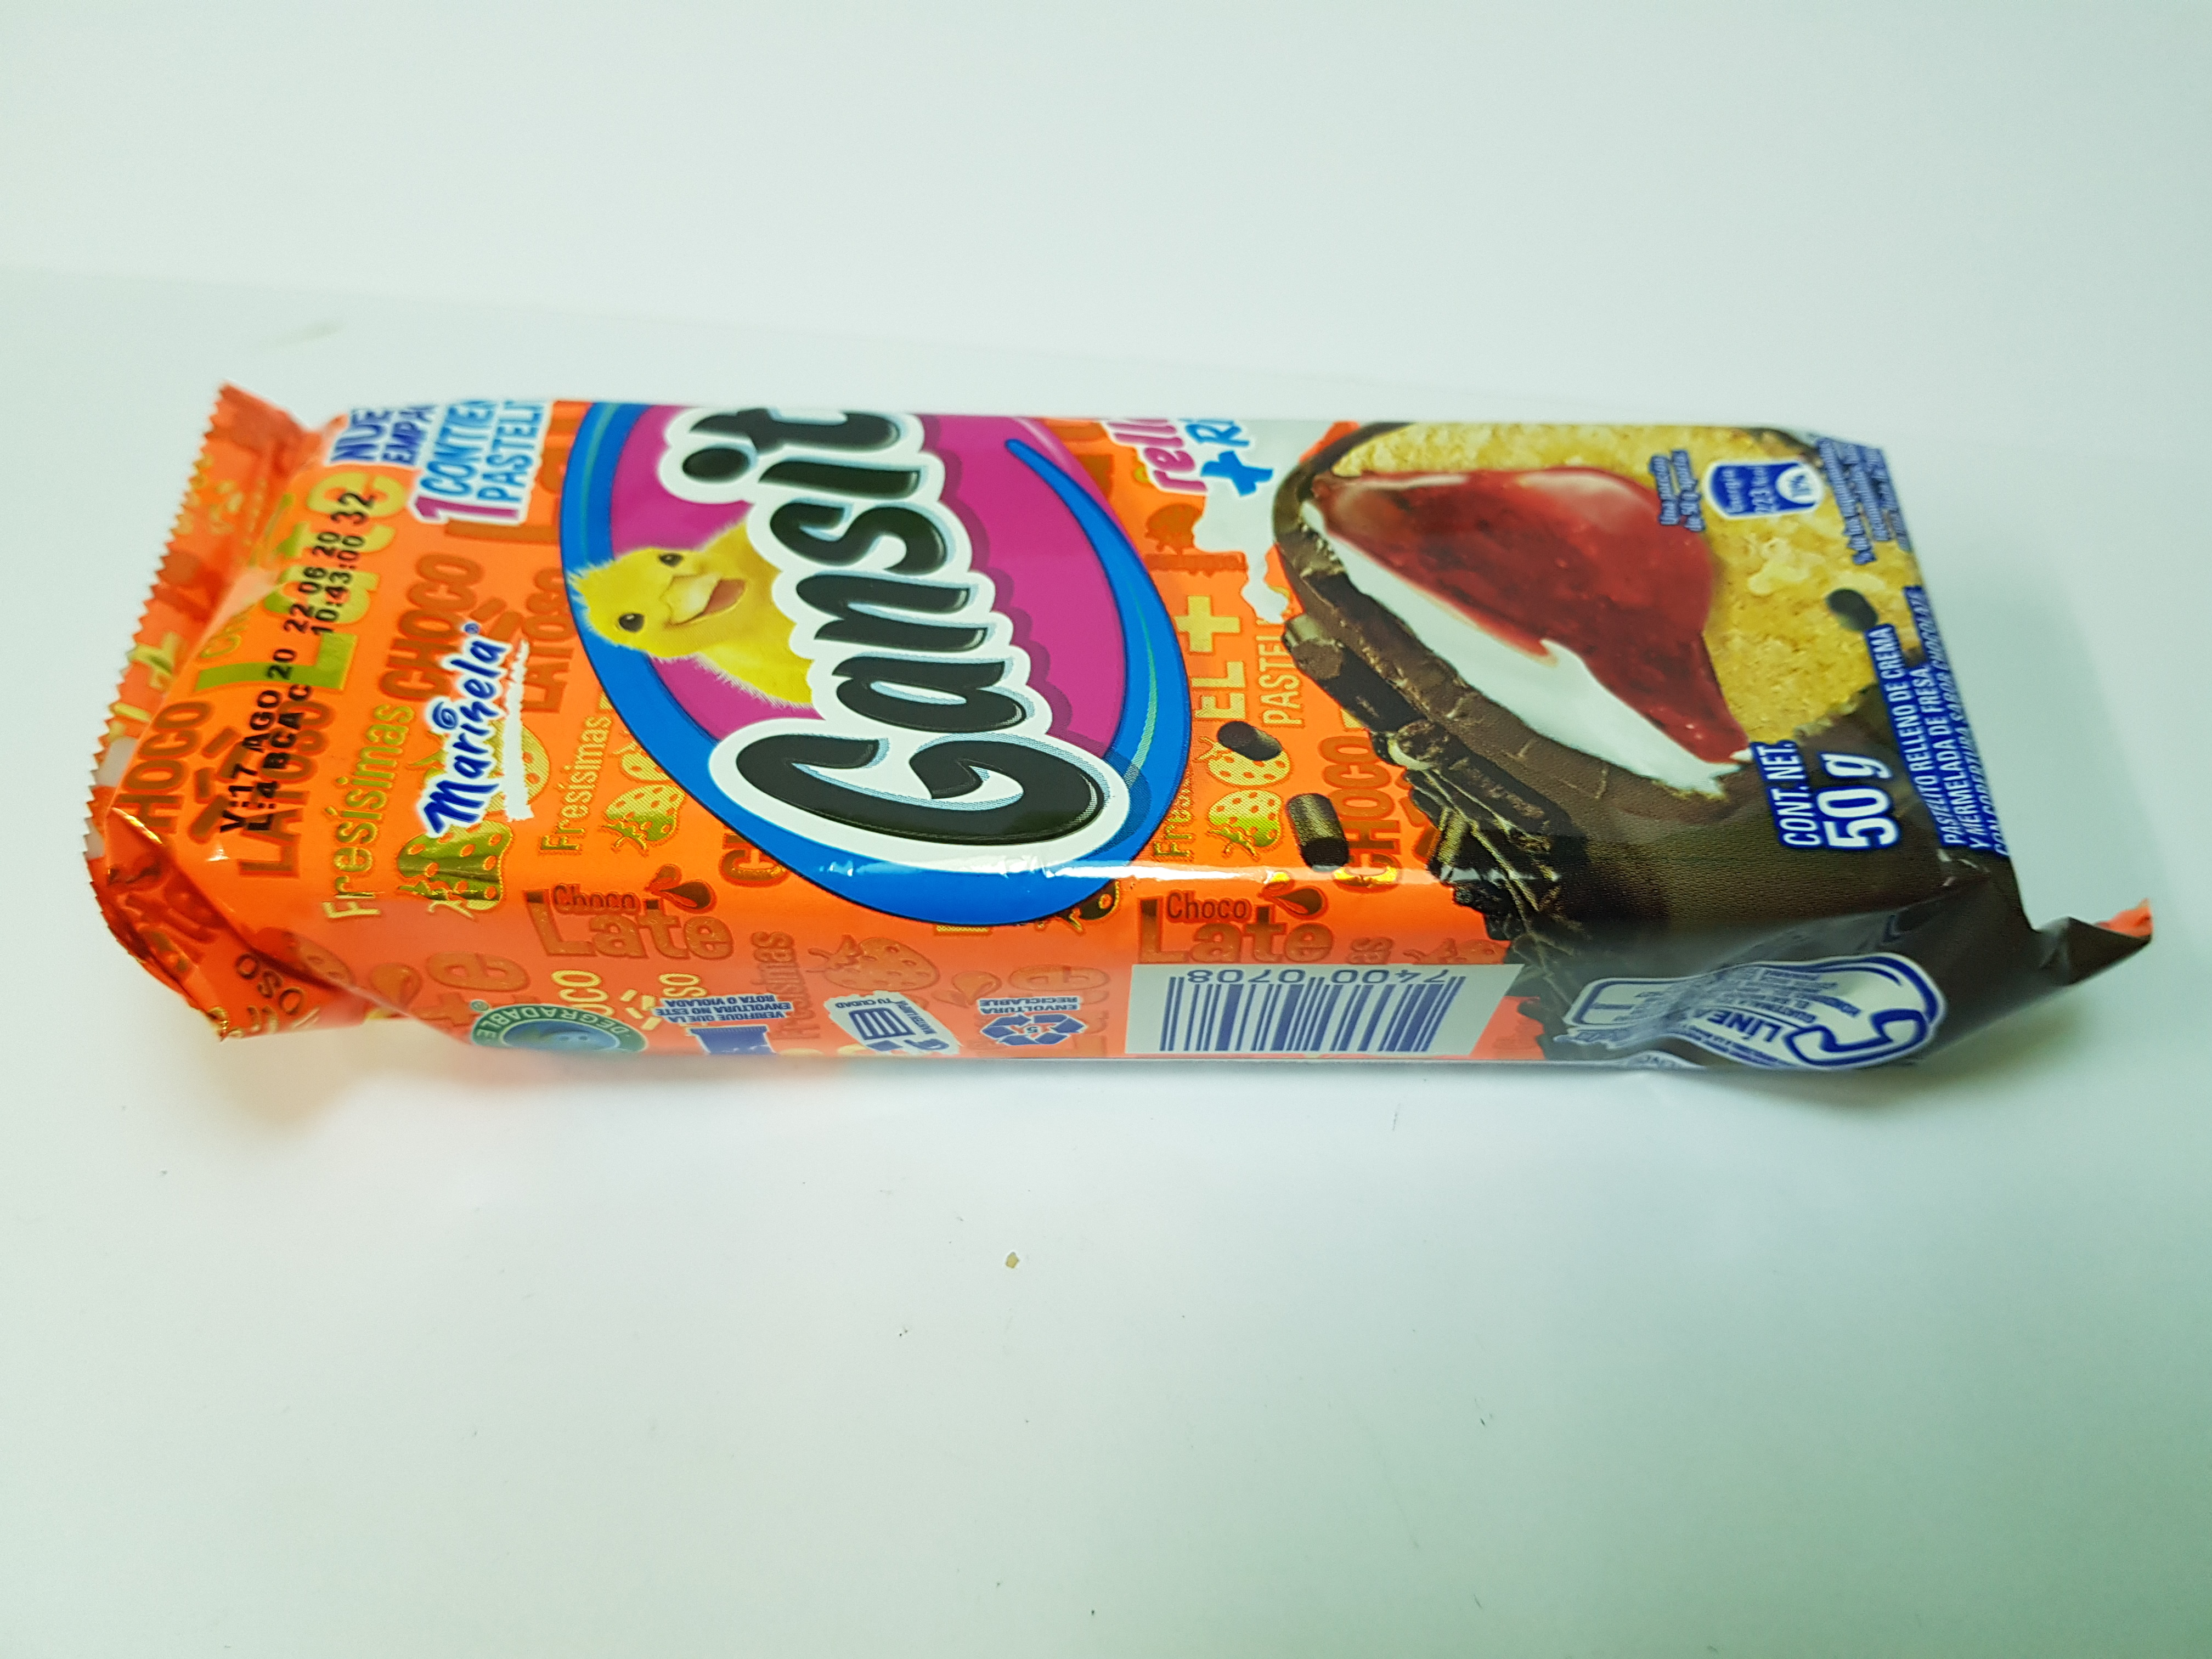gansito: (84, 349, 2174, 1072)
